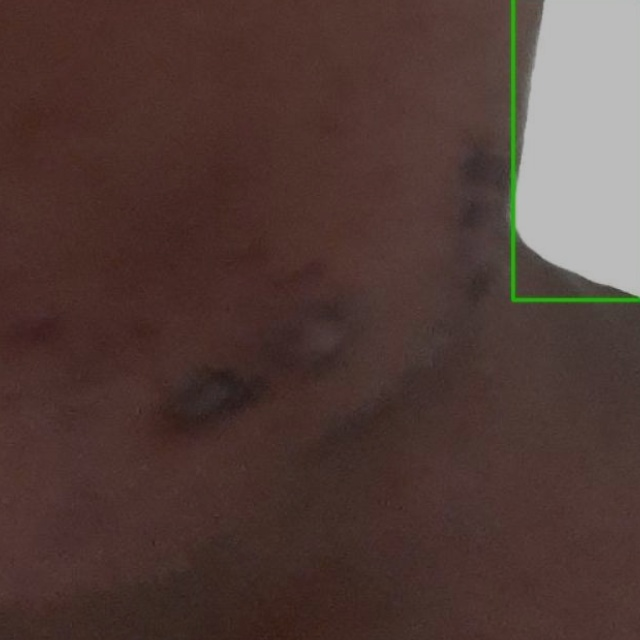Contact Dermatitis: (513, 0, 639, 299)
